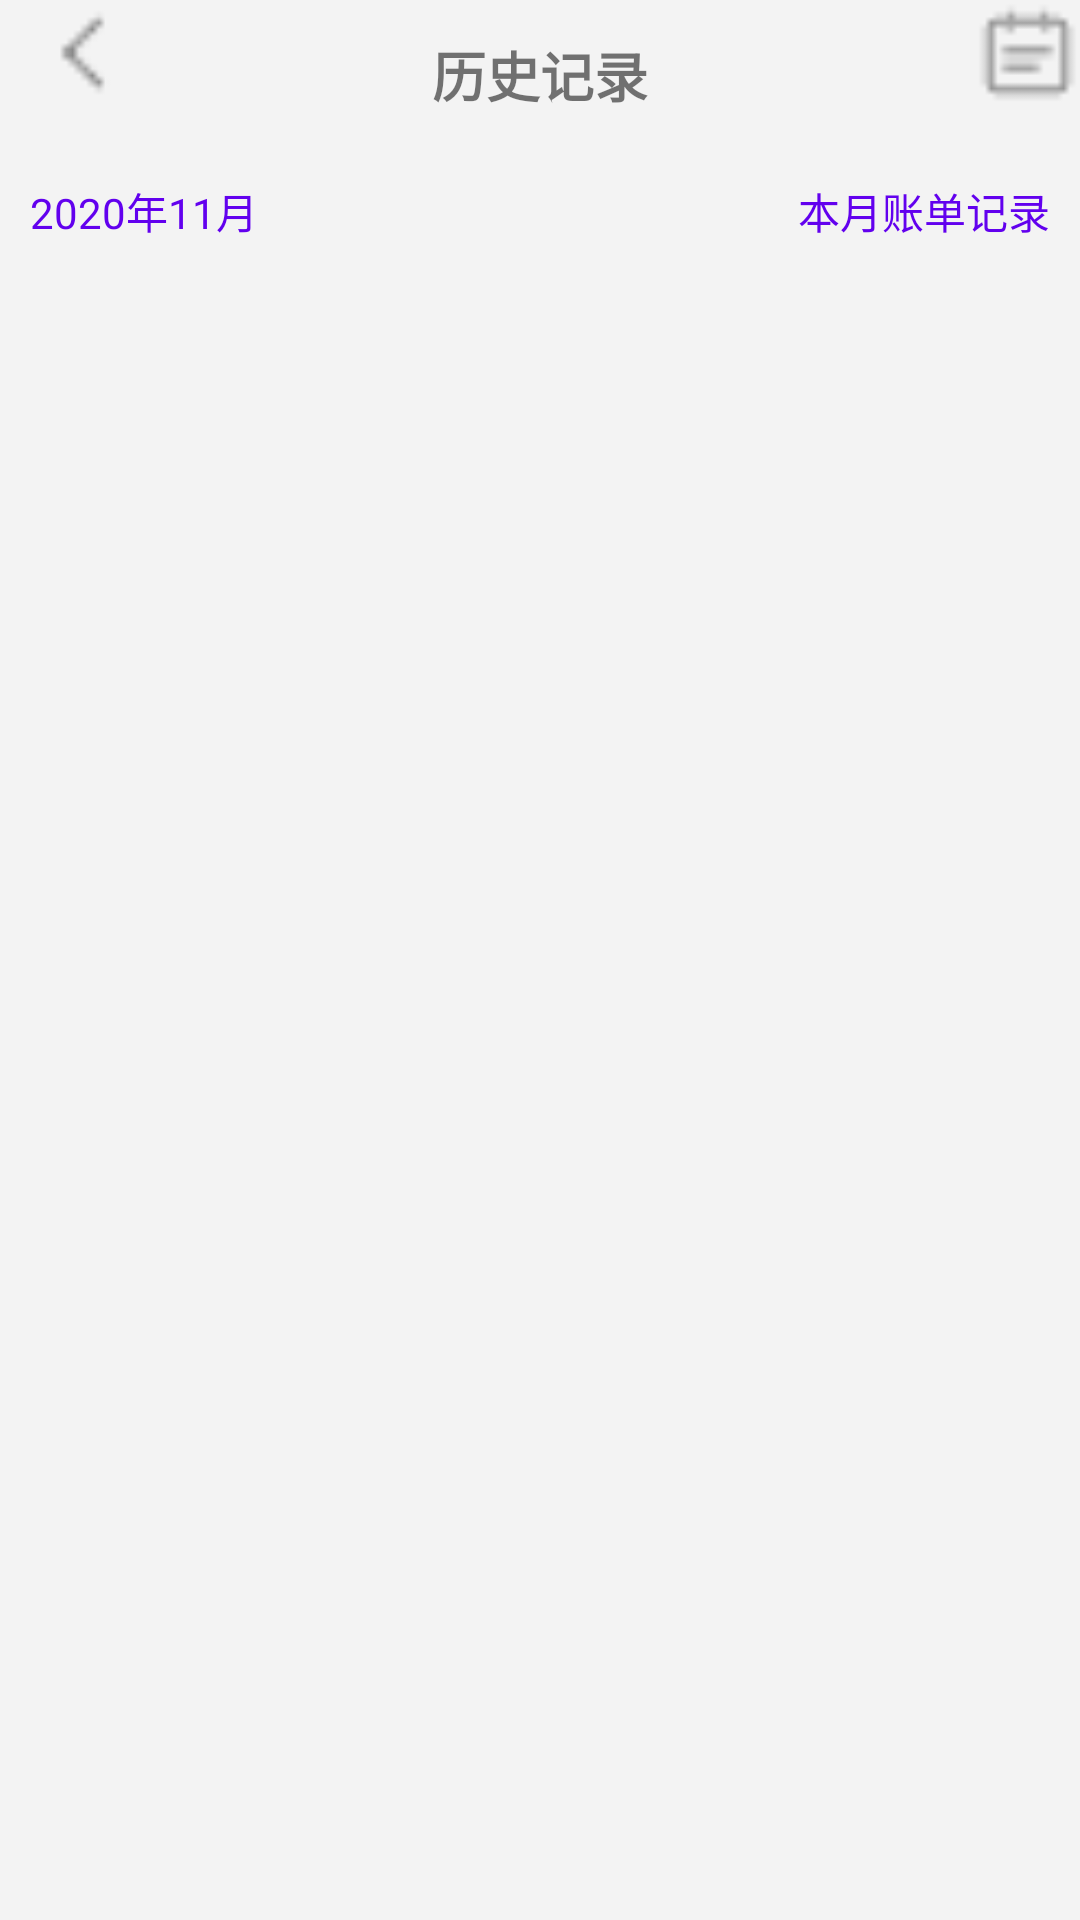

Locate icon controls on the screen. Image size 1080*1920, boxes as (x1, y1, x2, y2).
it back: (62, 17, 104, 89)
it rili: (984, 11, 1071, 96)
